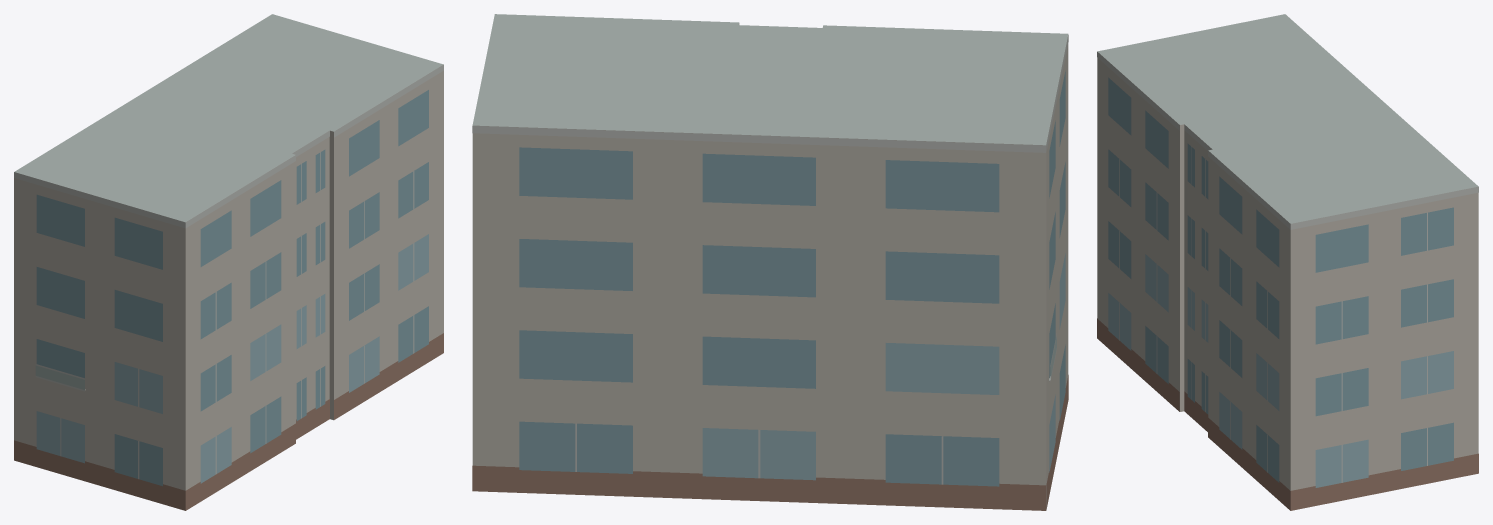
File: survey-upis-33024672.glb
3 renders of one model, left to right at view 1: azimuth 30°, elevation 25°; view 2: azimuth 150°, elevation 25°; view 3: azimuth 270°, elevation 25°, orthographic. The views are drawn at different scales.
Visible parts, largest first — view 1: survey-upis-33024672.tmp; view 2: survey-upis-33024672.tmp; view 3: survey-upis-33024672.tmp.
Part boxes in pixels (x1,y1,x2,y2): survey-upis-33024672.tmp: (14, 14, 443, 510); survey-upis-33024672.tmp: (472, 14, 1068, 510); survey-upis-33024672.tmp: (1097, 14, 1478, 510).
Bounding box in the file's own units: 18.2 × 11.6 × 13.99.
